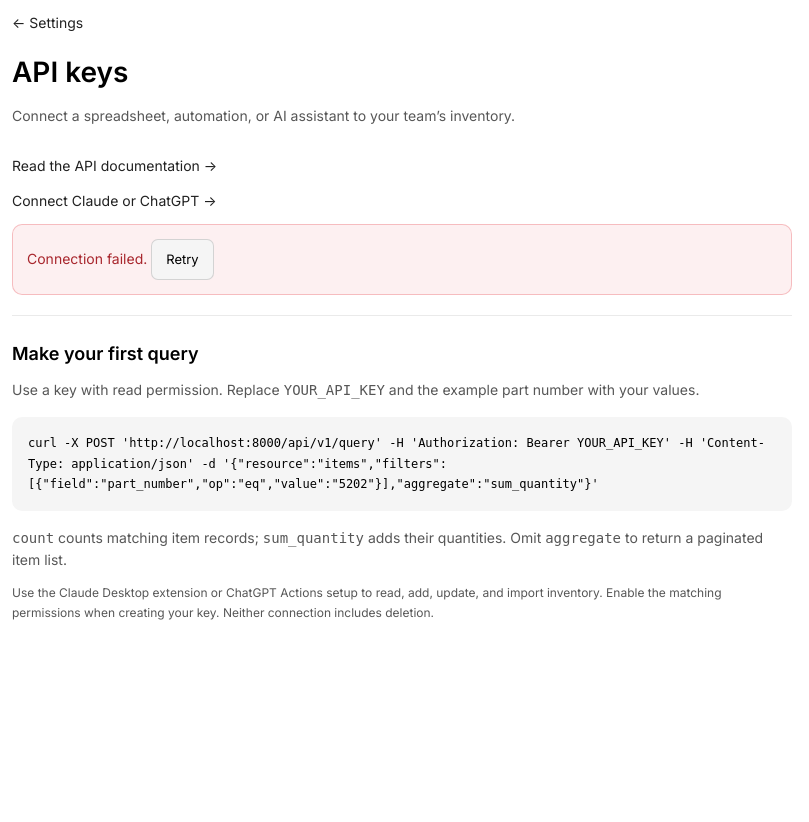
failed loading shows retry and never presents an empty success state
This screenshot has width=809, height=822.
Click the button "Retry" at (182, 260), box [151,239,214,280]
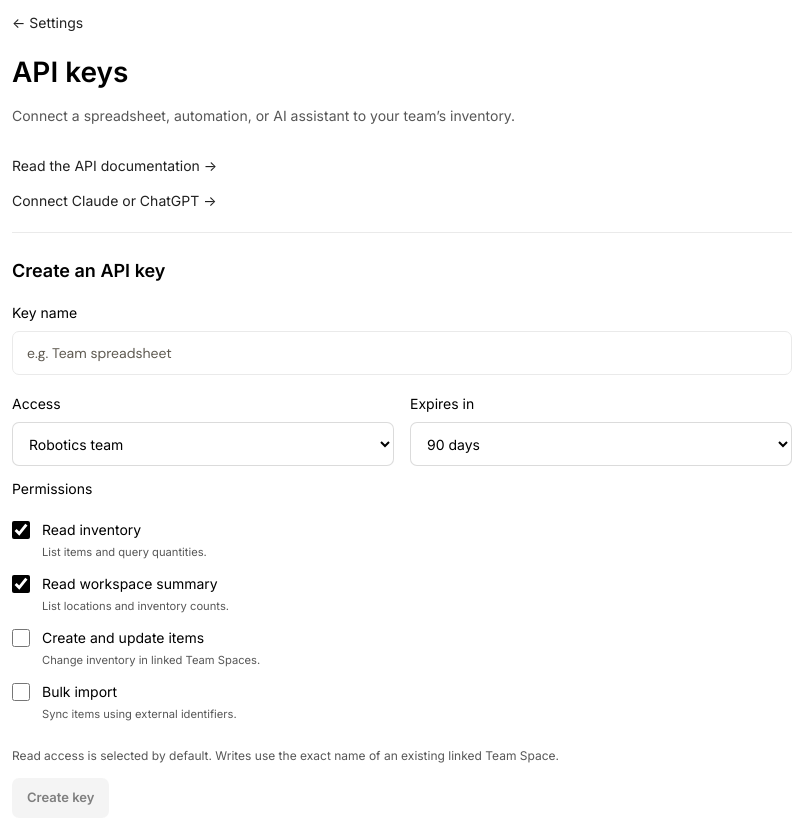
Now the message "Connection failed. Retry" is gone
Now the field labelled "Key name" is shown, box [12,331,792,375]
